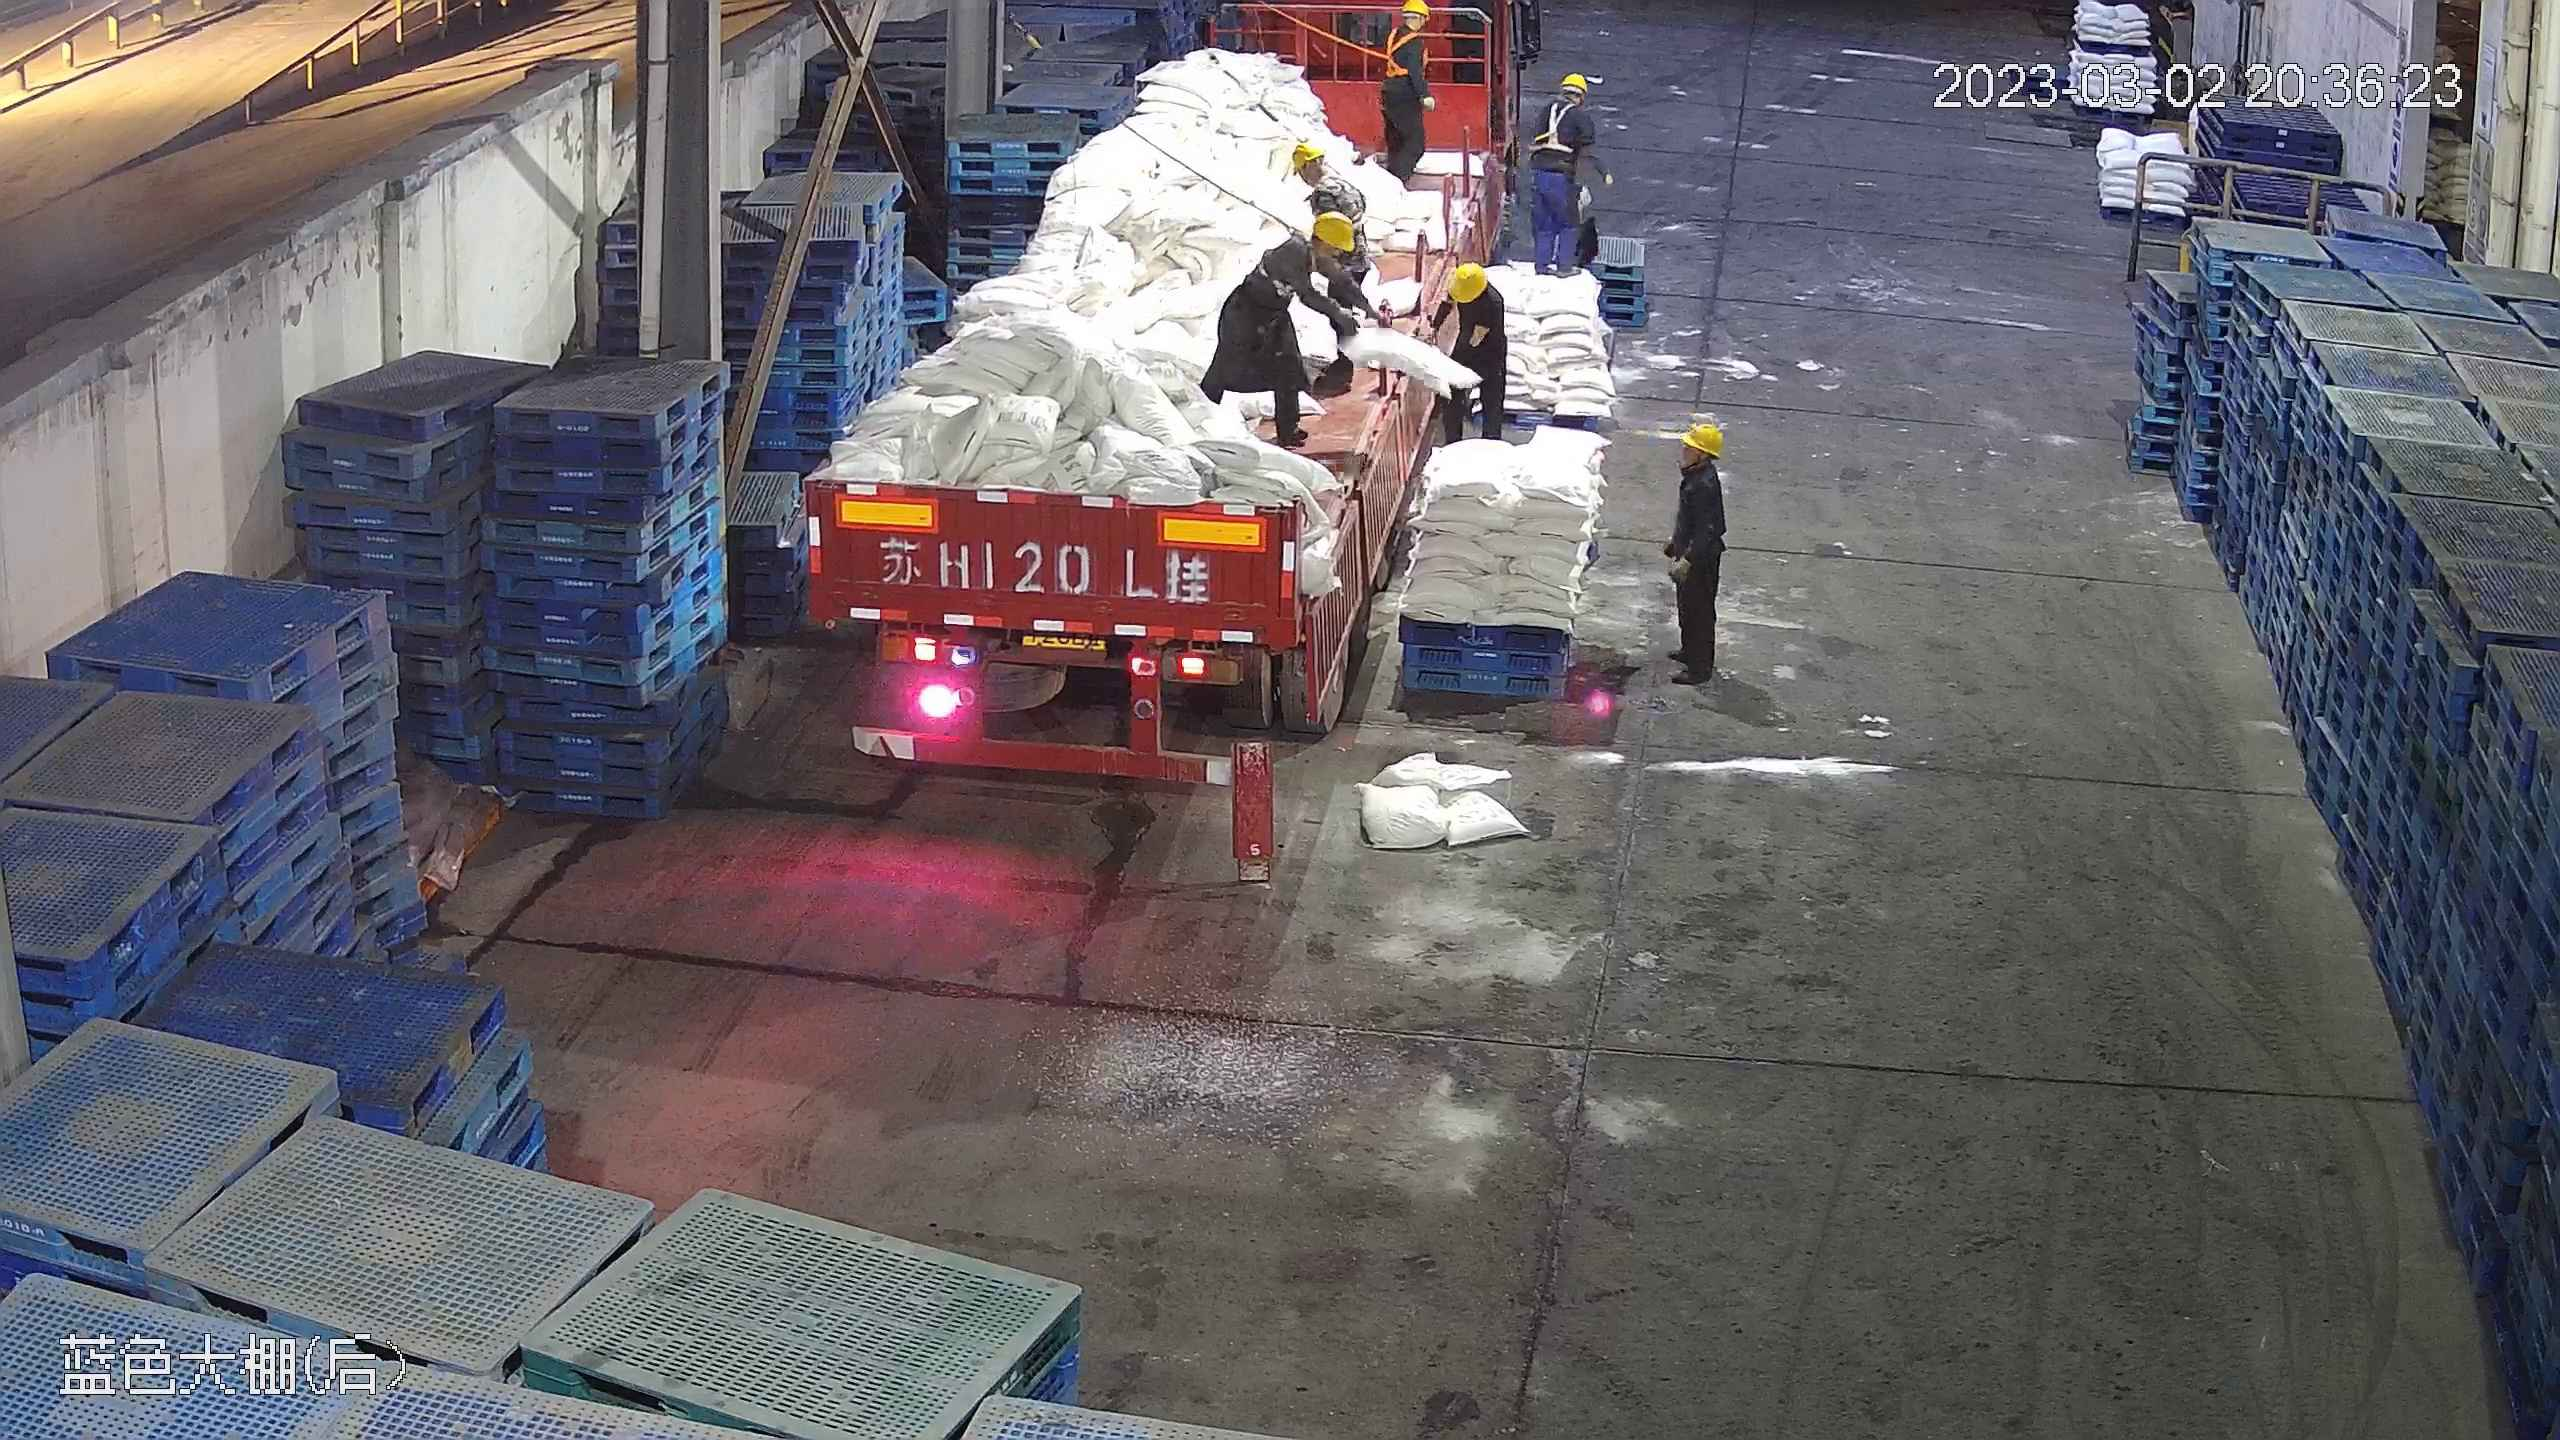belt: (1252, 229, 1318, 297), (1531, 95, 1587, 152), (1378, 19, 1425, 73), (1339, 178, 1370, 228)
head: (1275, 208, 1361, 285), (1673, 420, 1726, 512), (1435, 258, 1506, 326), (1289, 135, 1357, 204), (1532, 67, 1598, 136), (1376, 1, 1434, 51)
helmet: (1308, 209, 1356, 253), (1446, 259, 1490, 304), (1679, 421, 1724, 454), (1286, 138, 1326, 173), (1395, 1, 1429, 22), (1559, 70, 1591, 92)
people: (1197, 208, 1379, 455), (1518, 68, 1606, 280), (1664, 419, 1730, 691), (1423, 255, 1512, 443), (1369, 1, 1438, 182)
truck: (790, 5, 1490, 786)
